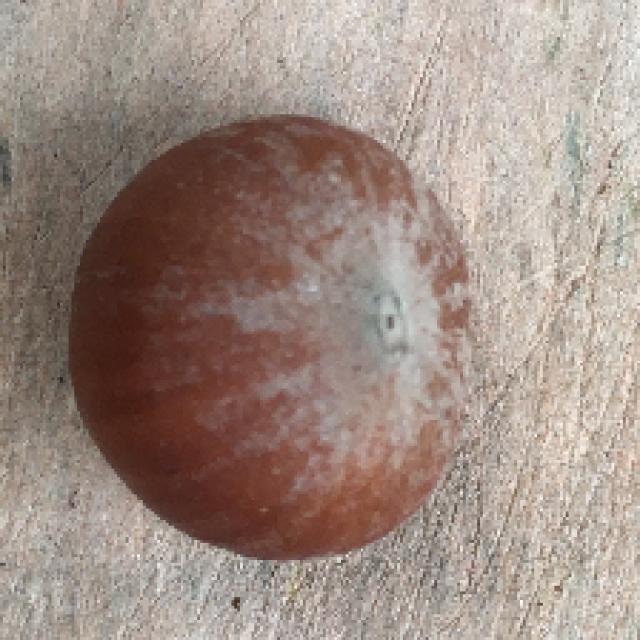QualityHazelnut: (63, 109, 479, 567)
